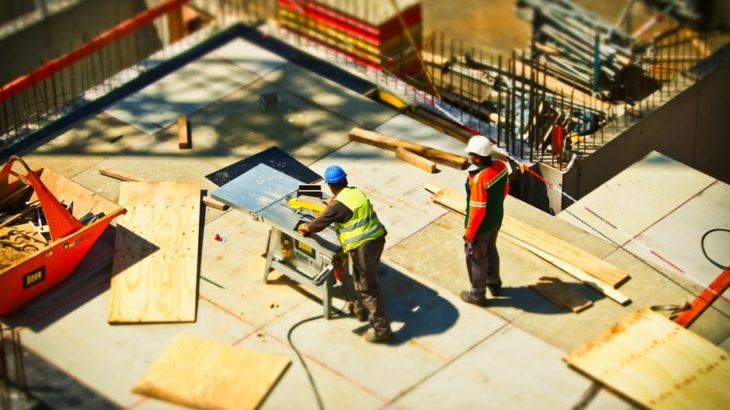NoJacket: (462, 132, 508, 243)
SAFE: (324, 162, 388, 254)
